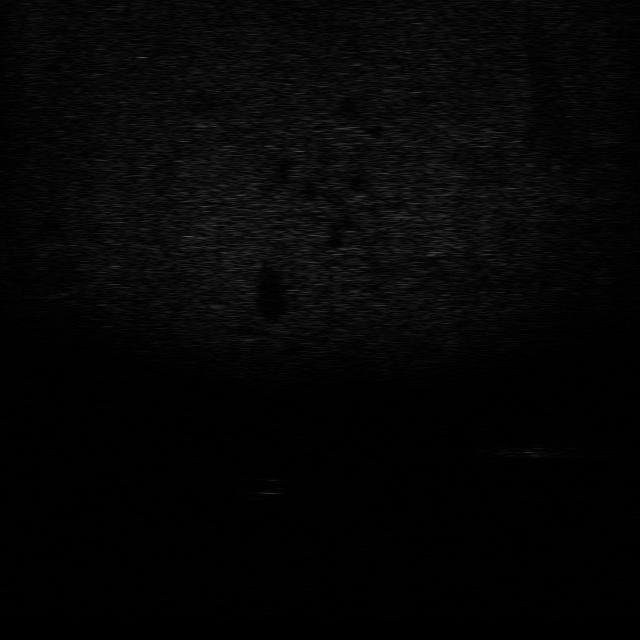ball: (242, 476, 292, 500)
human body: (476, 434, 595, 462)
